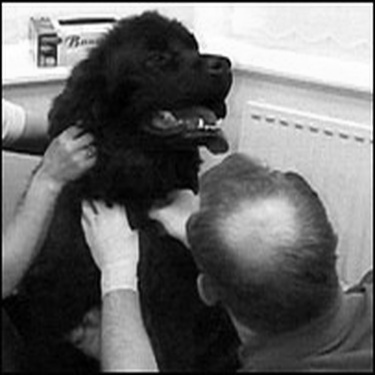dog: (4, 7, 253, 372)
